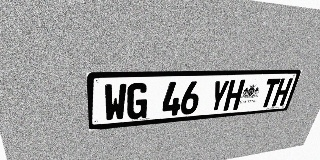4: (161, 81, 184, 117)
6: (180, 81, 202, 115)
G: (126, 83, 149, 120)
H: (223, 80, 245, 111), (271, 78, 293, 107)
T: (259, 78, 281, 108)
W: (104, 83, 127, 122)
Y: (208, 80, 230, 112)
